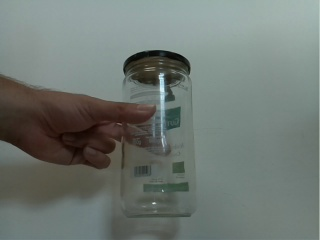pote cristal: (115, 47, 204, 224)
